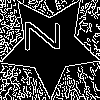Z: (25, 20, 69, 51)
